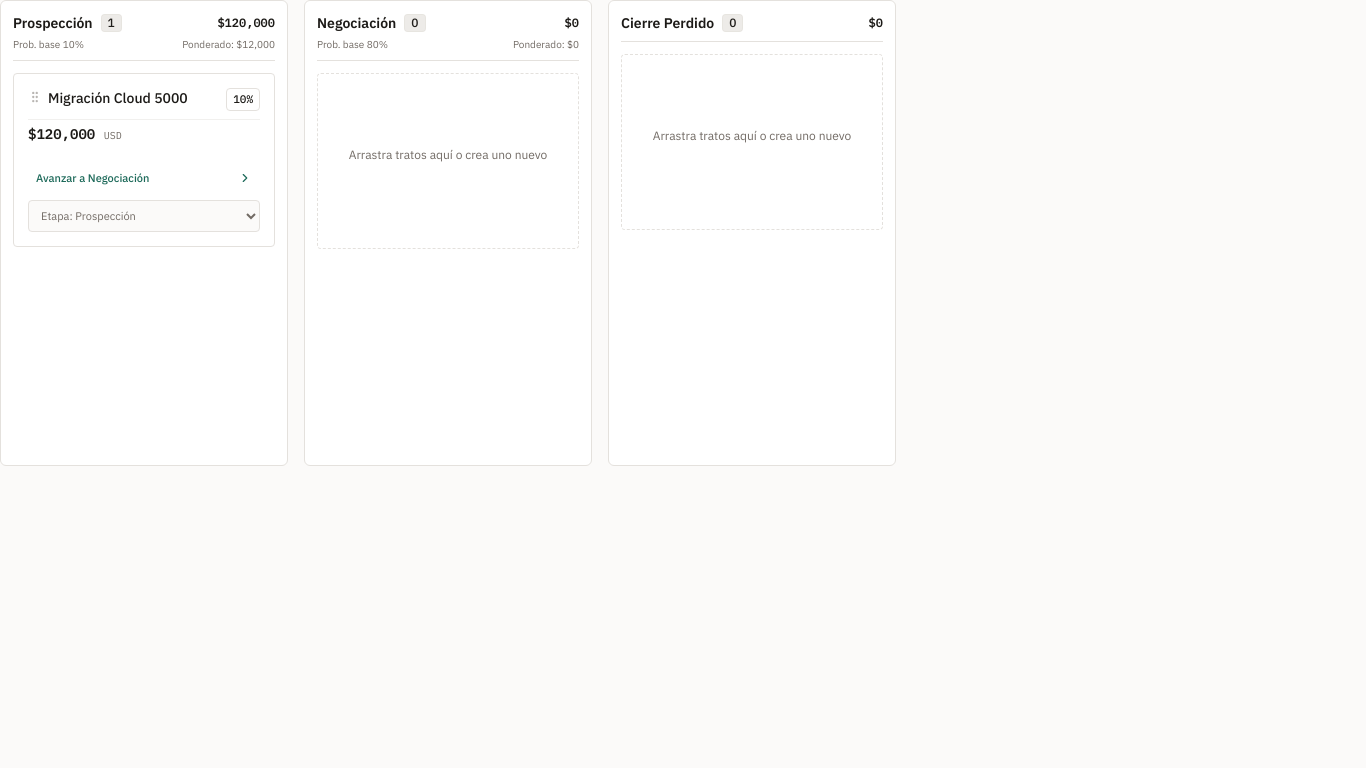
Scenario: DealKanbanBoard › prompts for mandatory loss_reason before transitioning to Closed Lost
Later steps or results of the test are not shown.
Select "Etapa: Cierre Perdido" in the dropdown named "Mover Migración Cloud 5000 a etapa" at (144, 216), box 28,200 -> 260,232
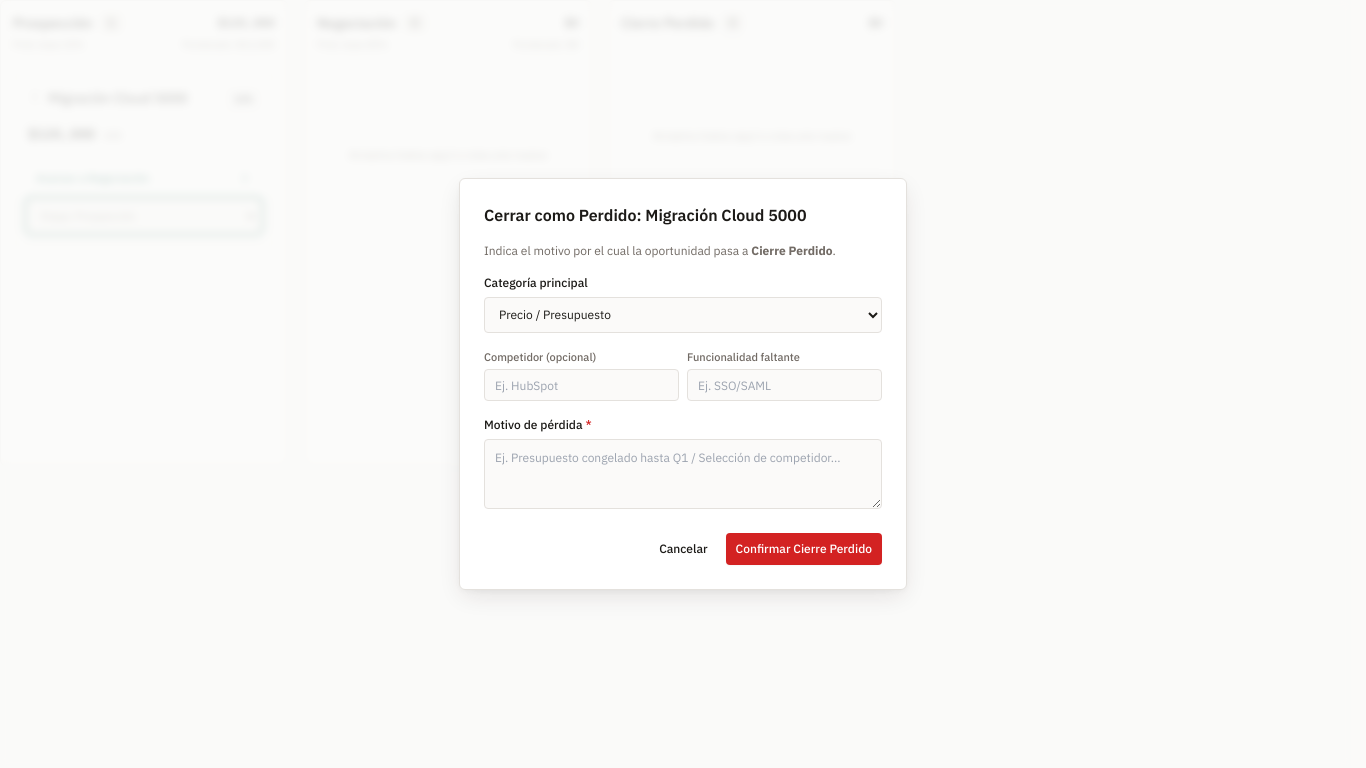
Expected: the dialog named "Registrar motivo de pérdida" is shown
Click the button "Confirmar Cierre Perdido".
click(804, 549)  # box 726,533 -> 882,565
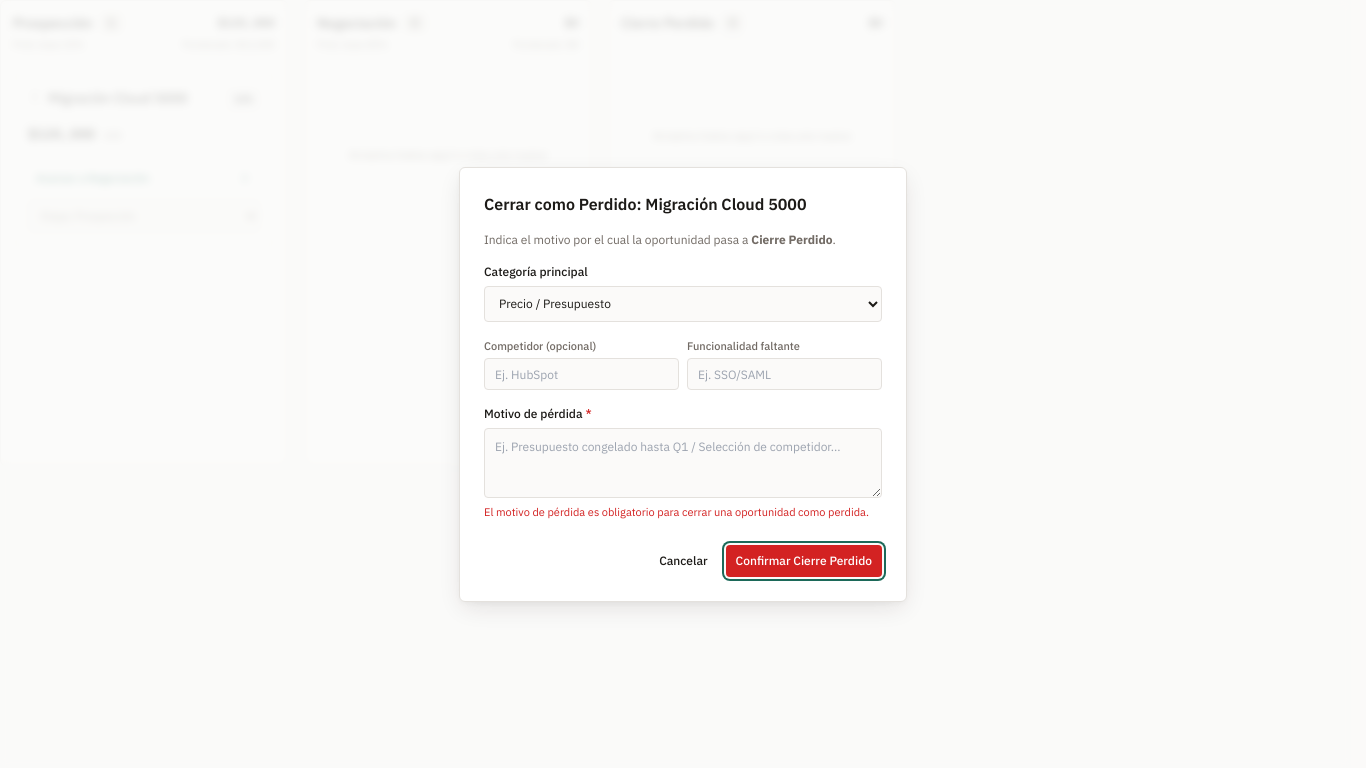
Expected: the text "El motivo de pérdida es obligatorio para cerrar una oportunidad como perdida." is shown, 484,504 -> 882,520
